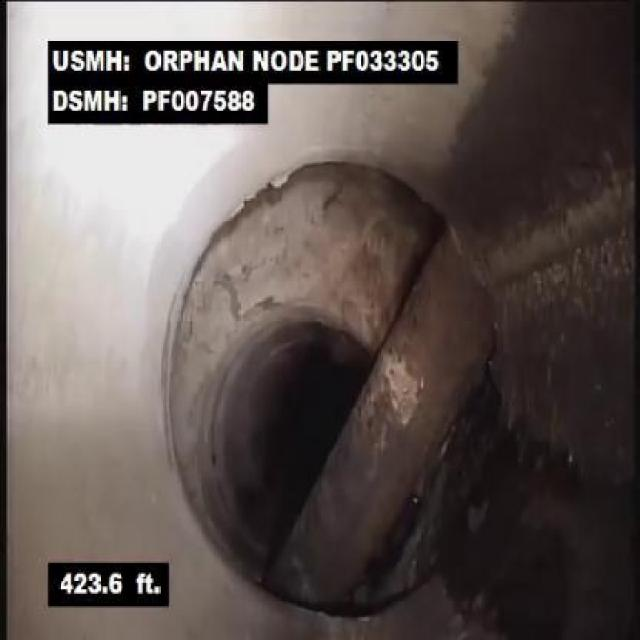Utility intrusion: (276, 217, 492, 628)
